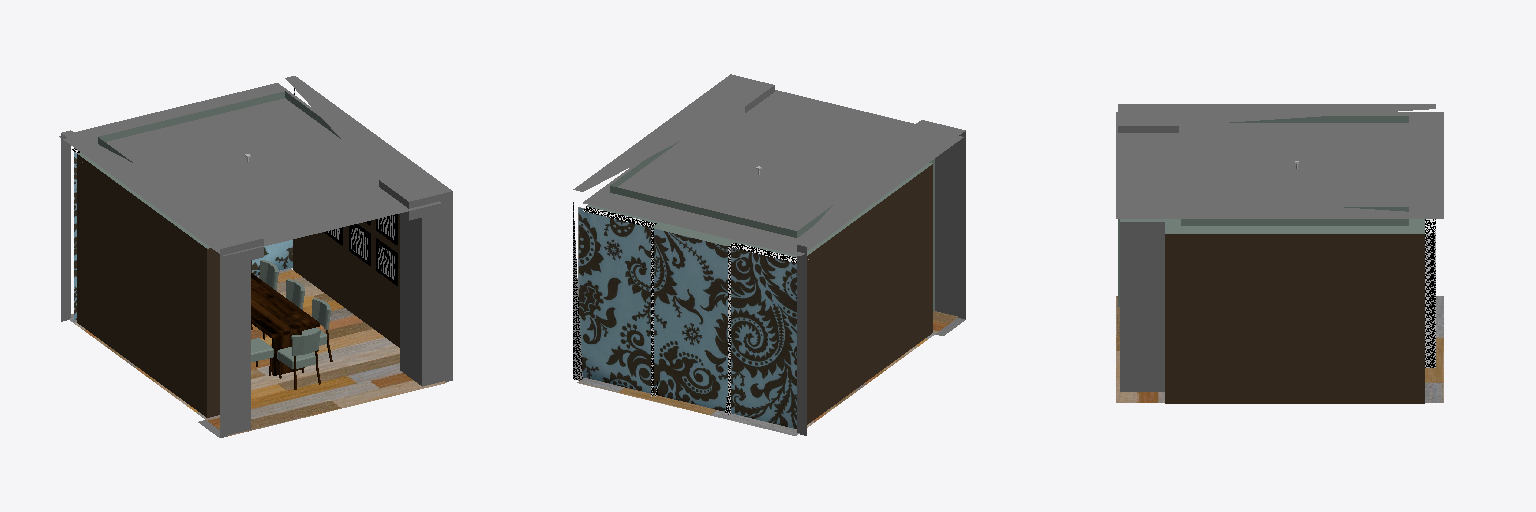
3 renders of one model, left to right at view 1: azimuth 30°, elevation 25°; view 2: azimuth 150°, elevation 25°; view 3: azimuth 270°, elevation 25°, orthographic.
Bounding box in the file's own units: 355 × 275 × 432.
19 materials, 10 textured.